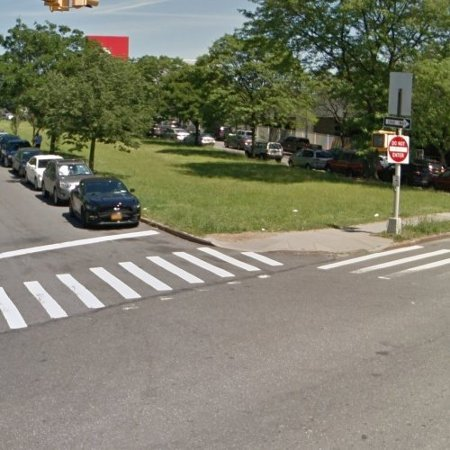汽車: (29, 153, 137, 221), (122, 123, 197, 179), (23, 118, 96, 151), (353, 103, 393, 141), (193, 115, 217, 135), (260, 118, 279, 135)
紅綠燈: (200, 39, 231, 74), (127, 39, 163, 68), (267, 63, 294, 87), (319, 63, 336, 86)
